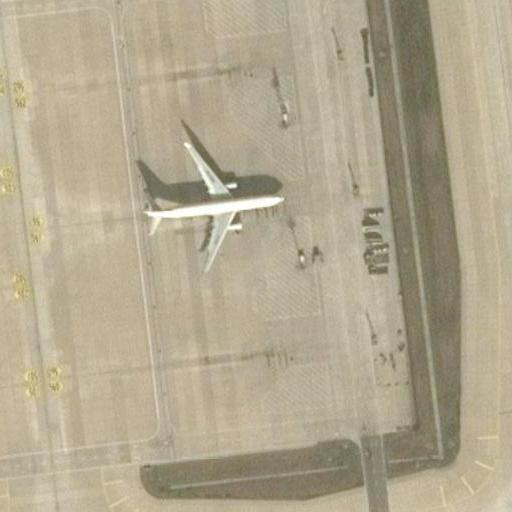Aircraft: (130, 121, 294, 274)
